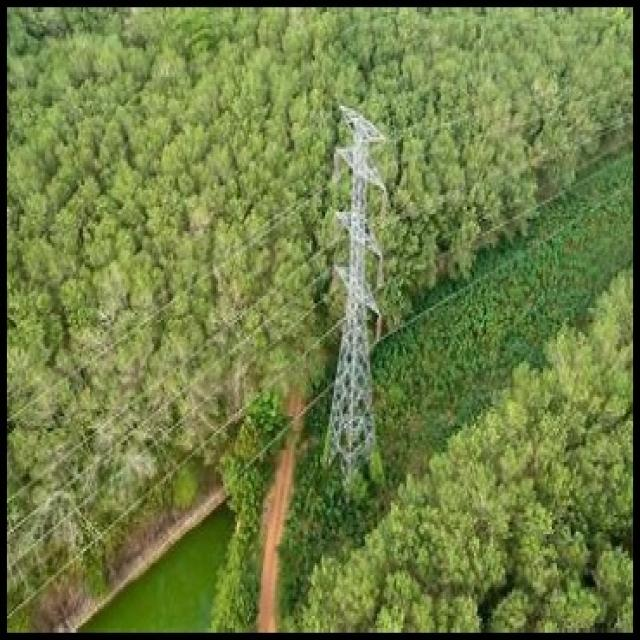utility poles: (265, 72, 451, 558)
